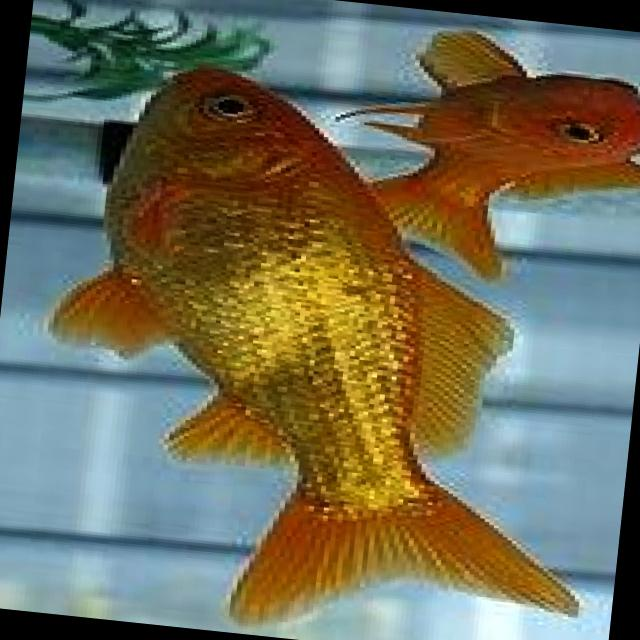GoldFish: (18, 51, 635, 640), (352, 20, 640, 299)
